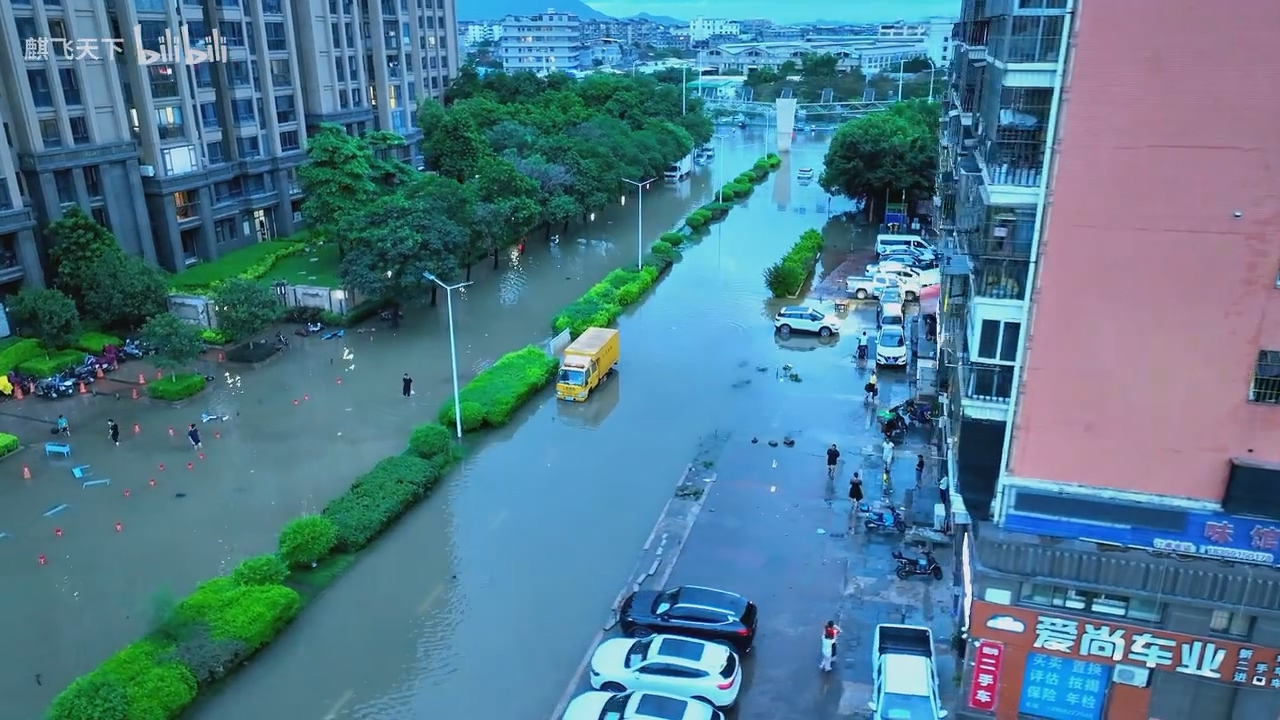puddle: (102, 367, 602, 720)
